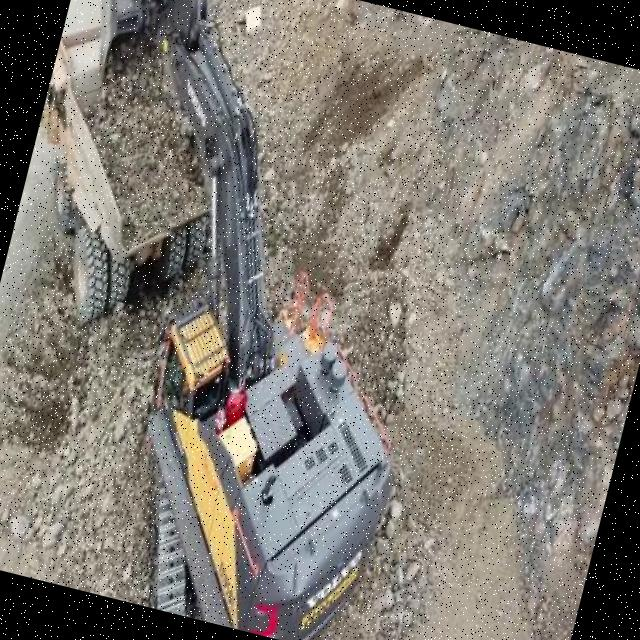Dump Truck: (0, 11, 253, 351)
Excavator: (0, 0, 504, 640)
